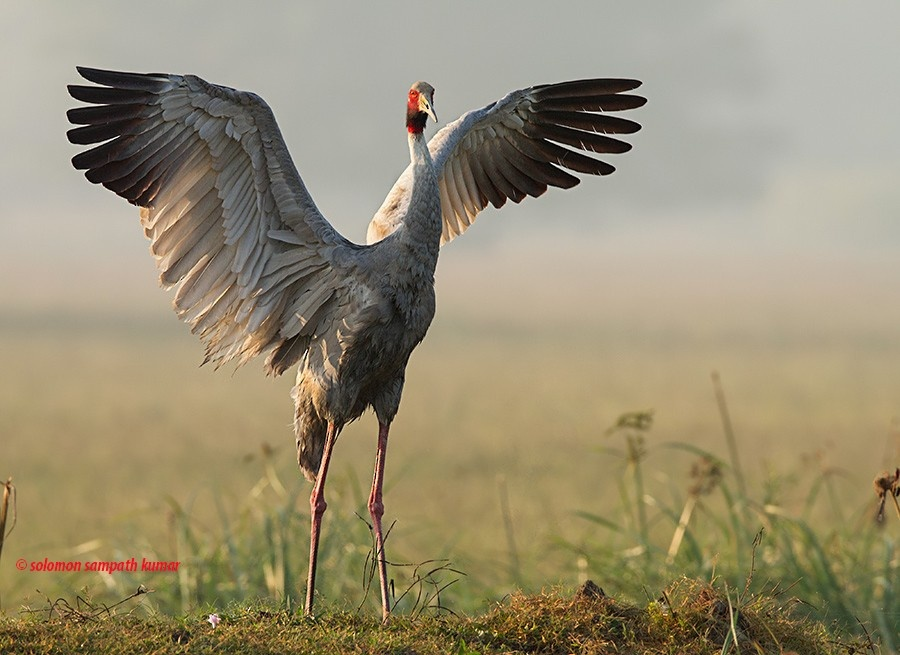crane: (64, 52, 659, 624)
